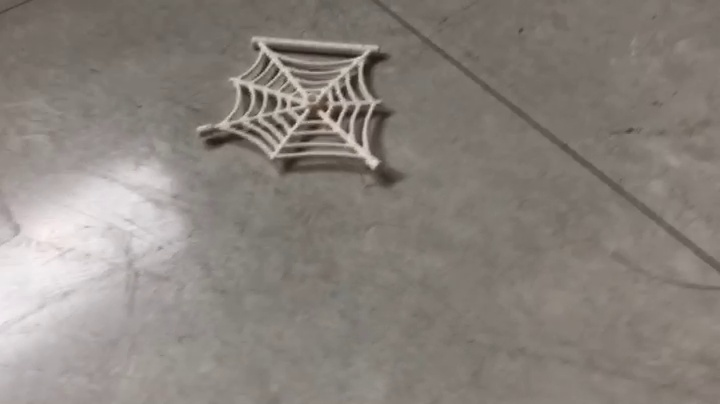web: (193, 33, 403, 189)
